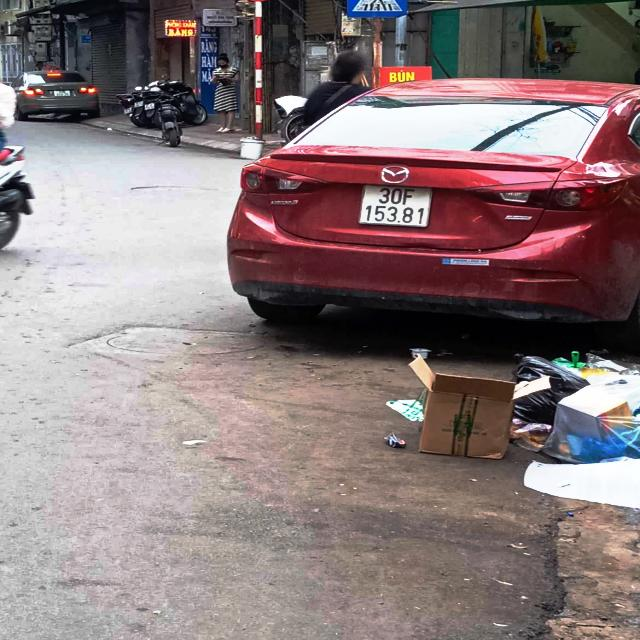license_plate: (352, 182, 442, 233)
